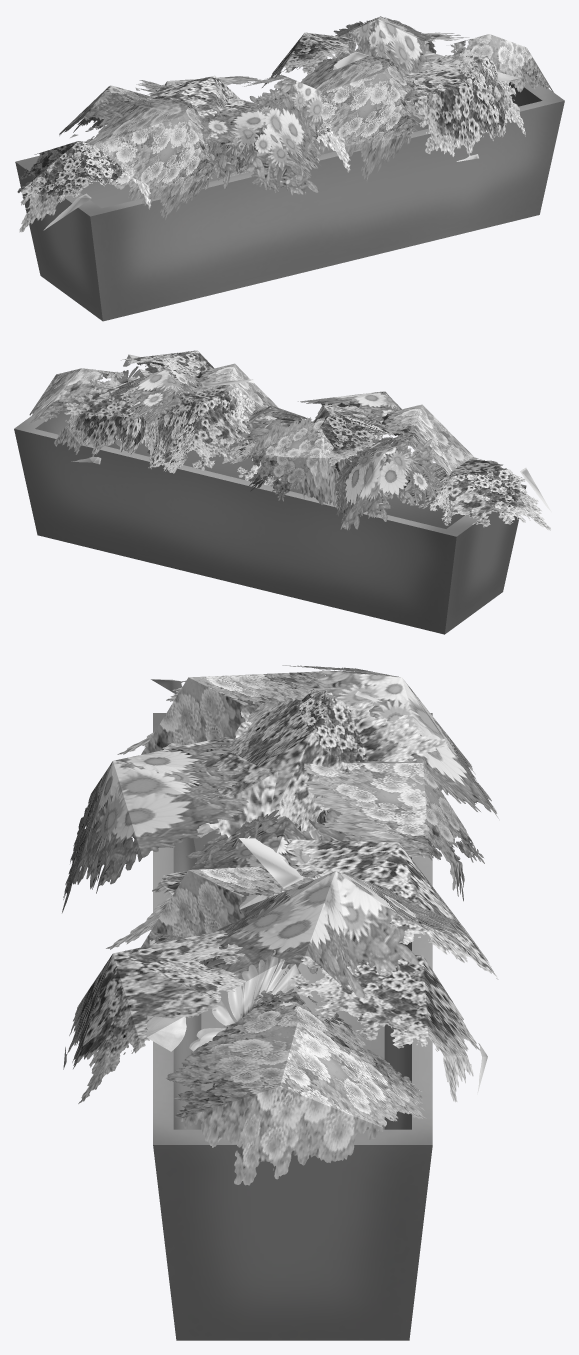
Rendered from p_flowerbed.fbx.
3 views of the same model, one above another, from view 1: azimuth 30°, elevation 25°; view 2: azimuth 150°, elevation 25°; view 3: azimuth 270°, elevation 25° (orthographic). The views are drawn at different scales.
Parts seen in each view (by area): view 1: p_flowerbed; view 2: p_flowerbed; view 3: p_flowerbed.
Boxes of the visible parts, <box> form: p_flowerbed: <box>15,16,564,321</box>; p_flowerbed: <box>14,350,551,634</box>; p_flowerbed: <box>62,665,498,1340</box>.
Size of the model in its own units: 102 by 34.29 by 39.58.
